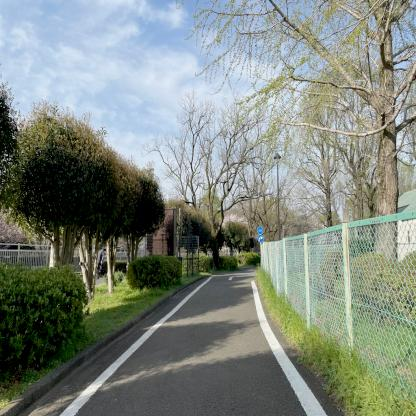Someiyoshino: (0, 206, 28, 255), (218, 213, 251, 228)
